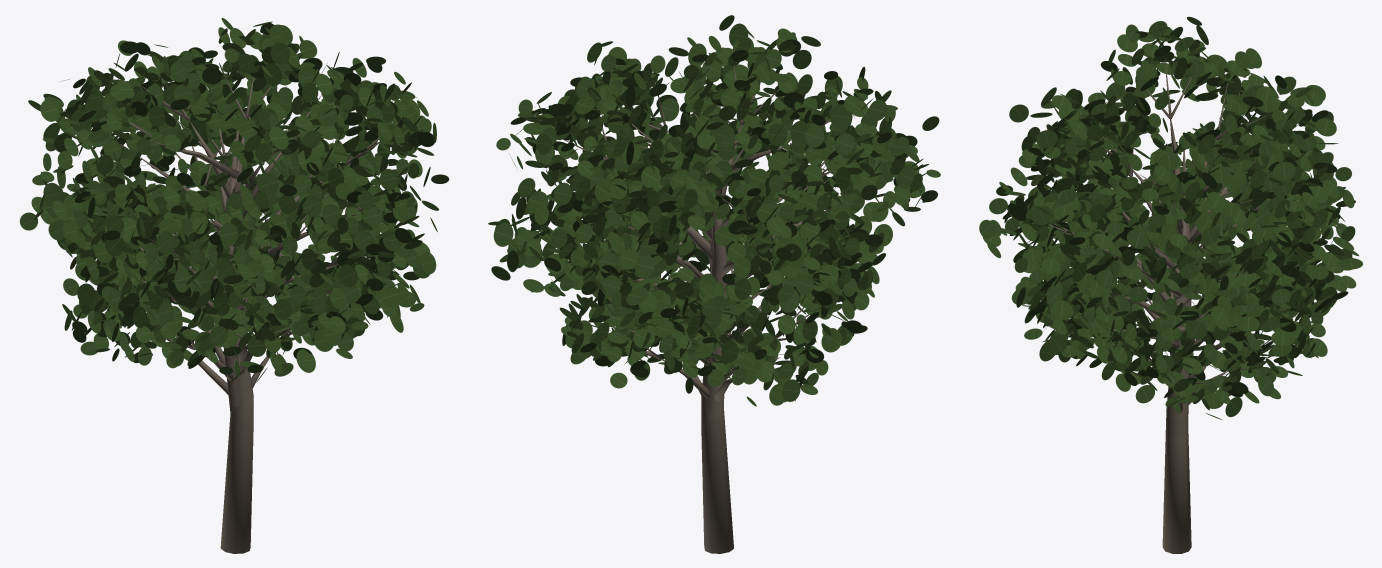
The model's file is background-trees-v1-r1.glb.
3 renders of one model, left to right at view 1: azimuth 30°, elevation 25°; view 2: azimuth 150°, elevation 25°; view 3: azimuth 270°, elevation 25°, orthographic. The views are drawn at different scales.
Visible parts, largest first — view 1: Broadleaf foliage 2, Broadleaf foliage 1, Broadleaf foliage 0, Broadleaf branch network 2, Broadleaf branch network 1, Broadleaf branch network 0; view 2: Broadleaf foliage 2, Broadleaf foliage 1, Broadleaf foliage 0, Broadleaf branch network 2, Broadleaf branch network 0, Broadleaf branch network 1; view 3: Broadleaf foliage 1, Broadleaf foliage 2, Broadleaf foliage 0, Broadleaf branch network 0, Broadleaf branch network 2, Broadleaf branch network 1.
Boxes of the visible parts, bbox=[...] form: Broadleaf foliage 2: bbox=[28, 18, 436, 382]; Broadleaf foliage 1: bbox=[19, 40, 449, 368]; Broadleaf foliage 0: bbox=[32, 55, 424, 356]; Broadleaf branch network 2: bbox=[102, 73, 380, 553]; Broadleaf branch network 1: bbox=[105, 77, 389, 553]; Broadleaf branch network 0: bbox=[102, 105, 333, 553]; Broadleaf foliage 2: bbox=[496, 15, 940, 386]; Broadleaf foliage 1: bbox=[488, 41, 897, 388]; Broadleaf foliage 0: bbox=[509, 95, 892, 406]; Broadleaf branch network 2: bbox=[563, 66, 895, 553]; Broadleaf branch network 0: bbox=[608, 135, 833, 553]; Broadleaf branch network 1: bbox=[627, 87, 837, 553]; Broadleaf foliage 1: bbox=[979, 47, 1345, 403]; Broadleaf foliage 2: bbox=[1009, 16, 1355, 345]; Broadleaf foliage 0: bbox=[1025, 122, 1362, 419]; Broadleaf branch network 0: bbox=[1070, 182, 1312, 553]; Broadleaf branch network 2: bbox=[1061, 59, 1300, 553]; Broadleaf branch network 1: bbox=[1048, 81, 1275, 552].
Bounding box in the file's own units: 6.41 × 8.27 × 6.23.
Materials: 2 (1 with a texture image).
